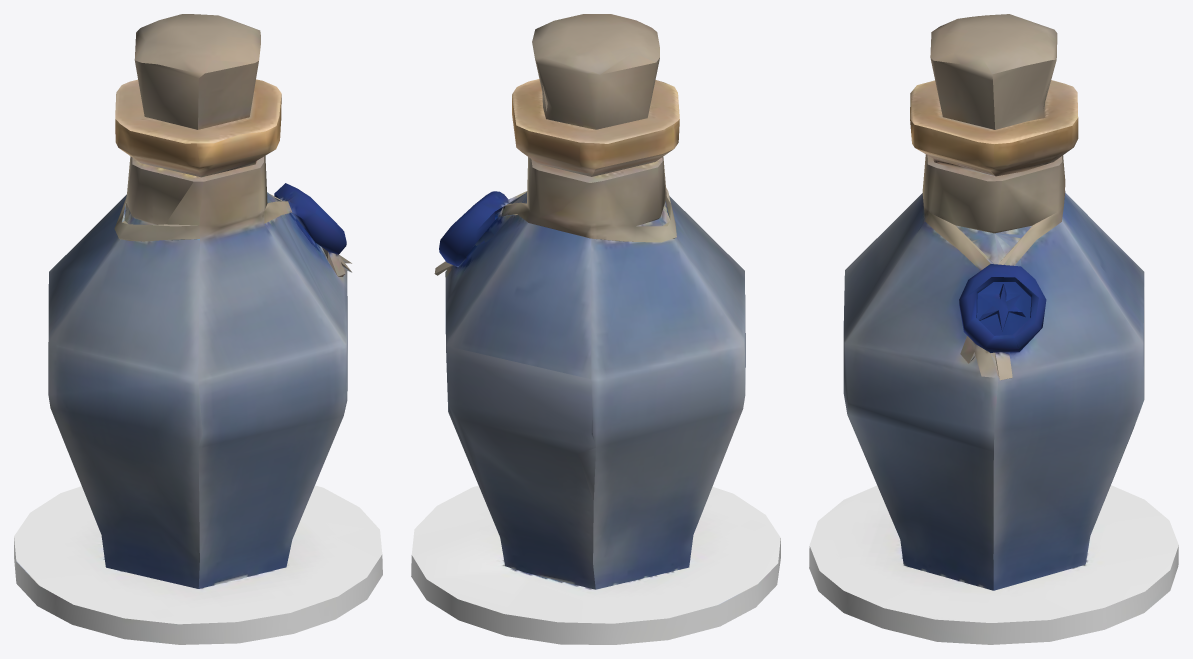
Rendered from 藍藥水.glb.
3 views of the same model, side by side, from view 1: azimuth 30°, elevation 25°; view 2: azimuth 150°, elevation 25°; view 3: azimuth 270°, elevation 25° (orthographic).
Parts seen in each view (by area): view 1: geometry_0; view 2: geometry_0; view 3: geometry_0.
Boxes of the visible parts, x1=… form: geometry_0: x1=14, y1=14, x2=382, y2=644; geometry_0: x1=411, y1=14, x2=780, y2=644; geometry_0: x1=809, y1=14, x2=1178, y2=644.
Size of the model in its own units: 0.6293 by 1 by 0.6283.
1 material, 1 textured.
